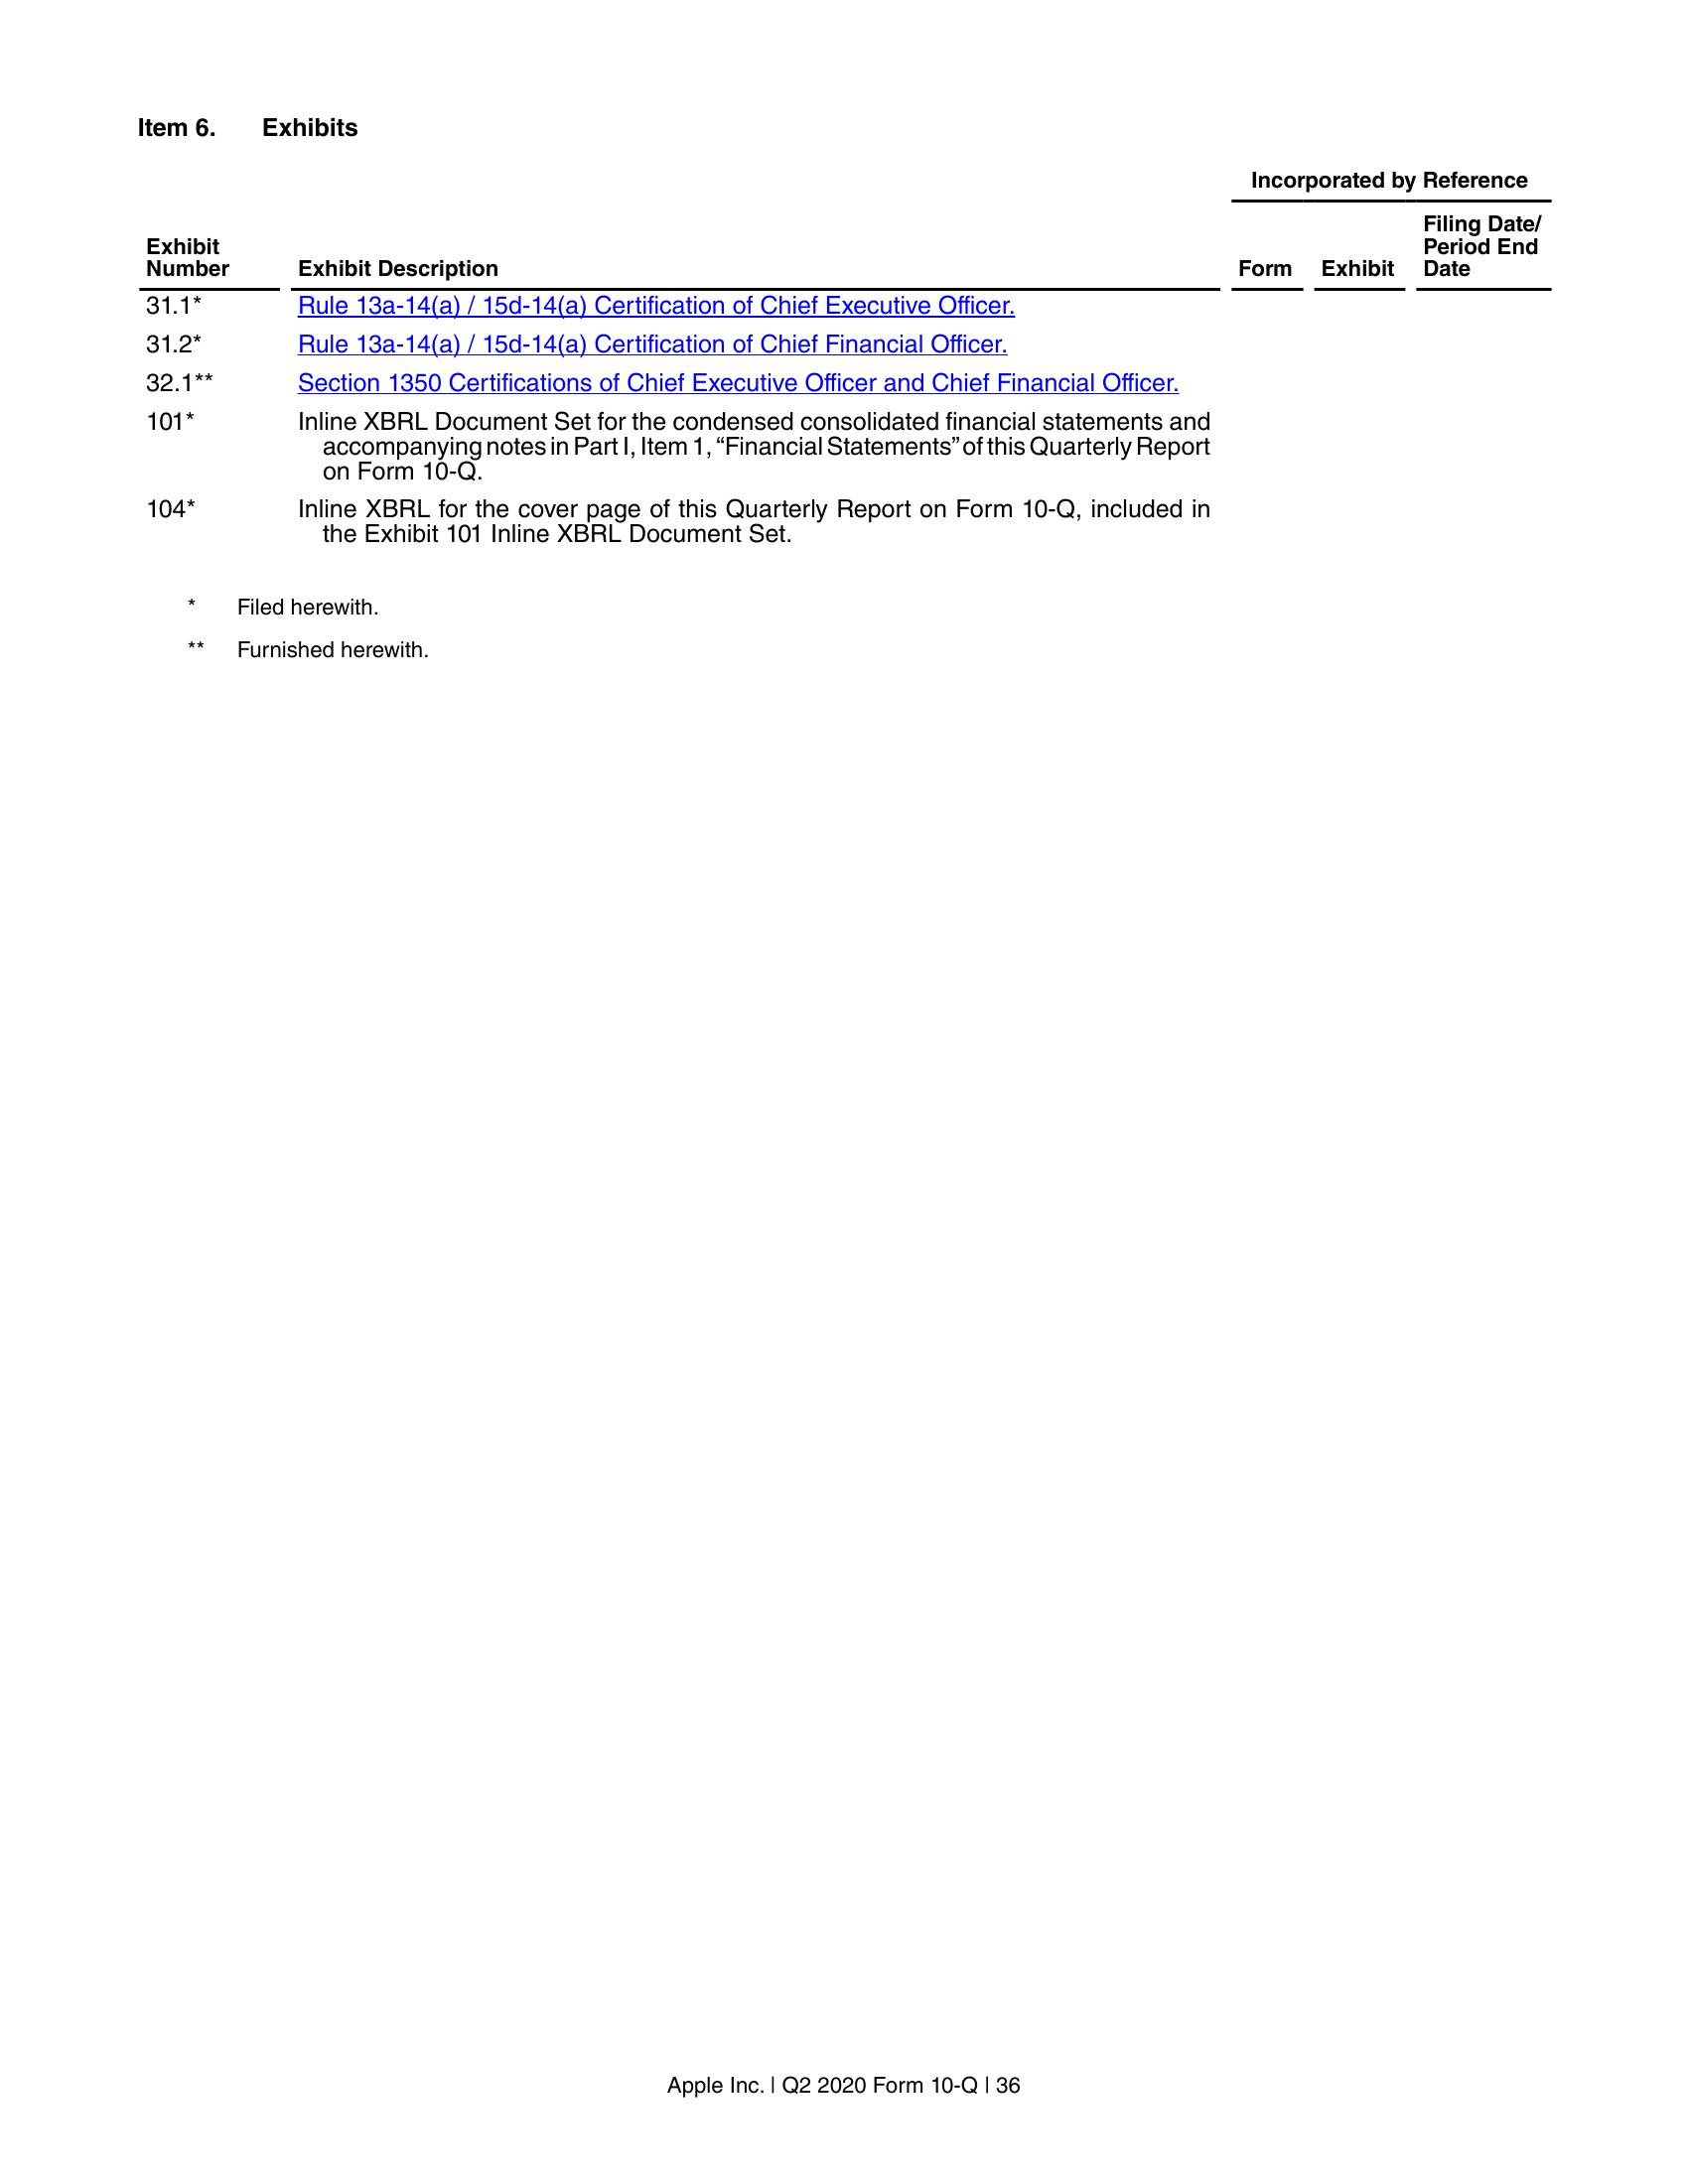table: (119, 168, 1553, 537)
